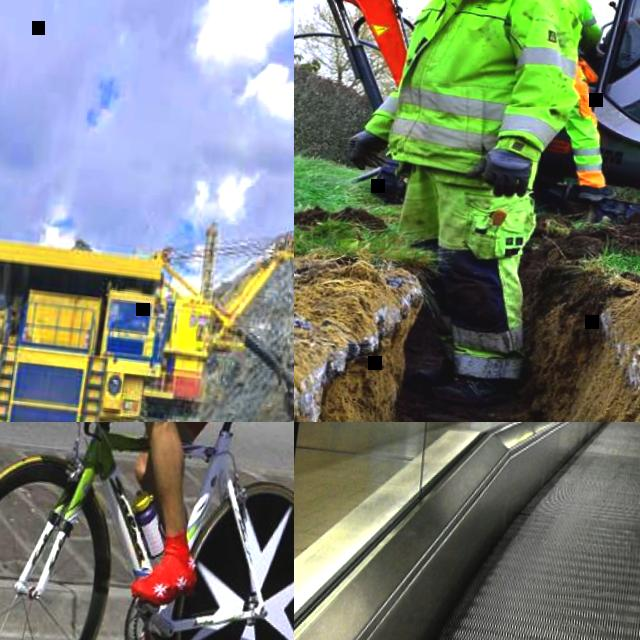Person: (313, 0, 601, 413), (0, 422, 294, 614), (550, 44, 634, 214), (515, 0, 614, 54)
Safety Vest: (381, 0, 589, 184), (392, 12, 607, 179), (512, 0, 595, 48)
vehicle: (294, 0, 640, 252), (0, 223, 176, 422), (130, 215, 294, 422)
